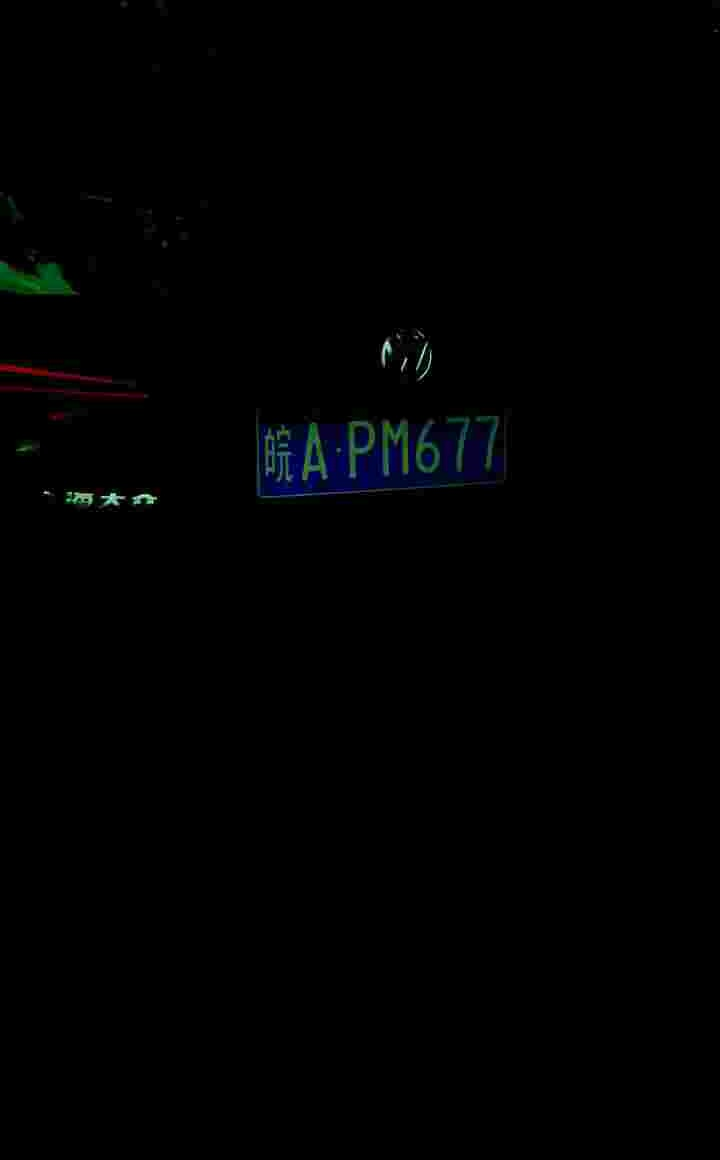license_plate: (254, 415, 517, 498)
